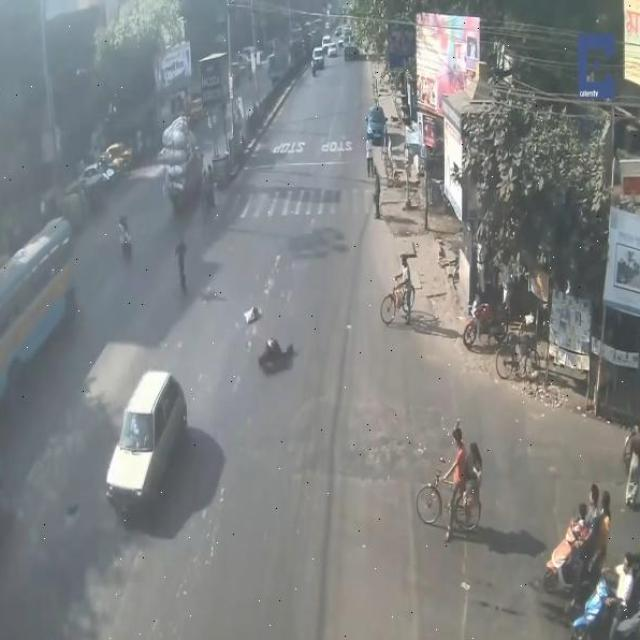accident: (97, 375, 193, 529), (251, 327, 306, 395), (234, 292, 284, 328)
